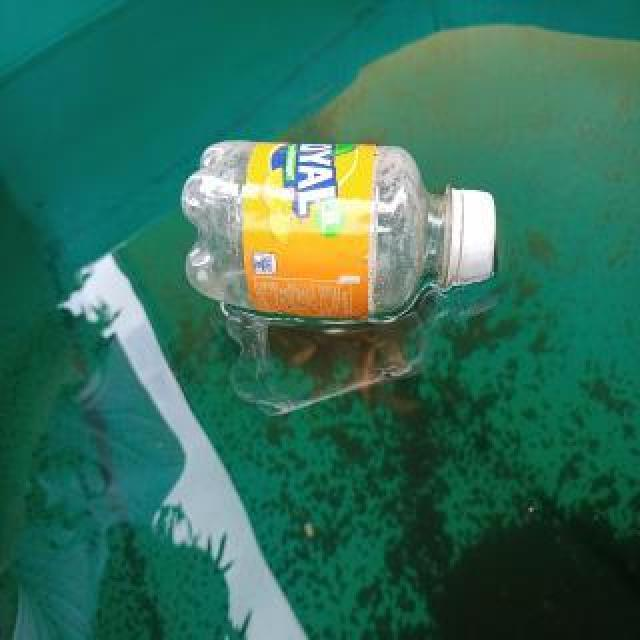bottle: (182, 137, 500, 331)
